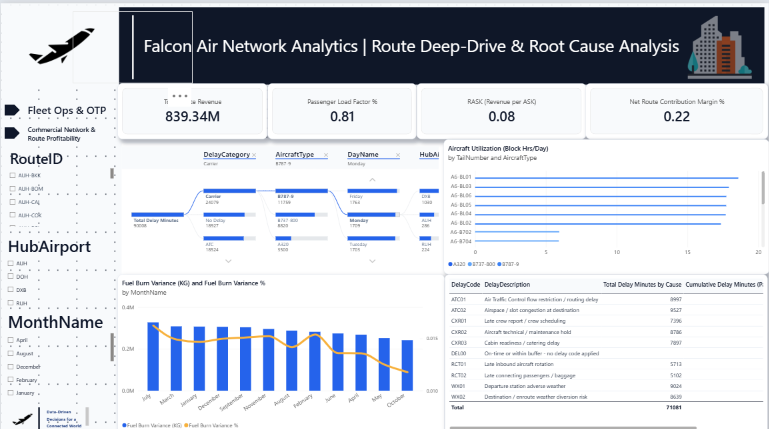

The page's visual inventory and layout, read from the dashboard file:
{"tool":"powerbi","page":{"name":"Route Deep-Dive & Root Cause Analysis.","canvas":[1920,1080],"ordinal":2},"visuals":[{"type":"shape","box":[0,189.4,306.6,892],"z":0},{"type":"image","box":[0,1000.5,109.3,80.1],"z":1000},{"type":"shape","box":[292.7,340.5,1626.7,738.7],"z":2000},{"type":"shape","box":[0,1000.5,191.8,80.1],"z":3000},{"type":"shape","box":[0,0,1919.3,213],"z":4000},{"type":"cardVisual","fields":{"Data":["Fact_RouteFinancials.Total Route Revenue"]},"box":[292.7,201.1,374.3,139.4],"z":5000},{"type":"cardVisual","fields":{"Data":["Fact_RouteFinancials.Passenger Load Factor %"]},"box":[667,201.1,372.3,139.4],"z":6000},{"type":"cardVisual","fields":{"Data":["Fact_RouteFinancials.RASK (Revenue per ASK)"]},"box":[1039.3,201.1,424.1,139.4],"z":7000},{"type":"cardVisual","fields":{"Data":["Fact_RouteFinancials.Net Route Contribution Margin %"]},"box":[1463.4,201.1,455.9,139.4],"z":8000},{"type":"clusteredBarChart","fields":{"Category":["Dim_Aircraft.TailNumber"],"Y":["Fact_Flights.Aircraft Utilization (Block Hrs/Day)"],"Series":["Dim_Aircraft.AircraftType"]},"box":[1106.7,339.1,813.9,337.4],"z":9000},{"type":"lineStackedColumnComboChart","fields":{"Y":["Fact_Flights.Fuel Burn Variance (KG)"],"Y2":["Fact_Flights.Fuel Burn Variance %"],"Category":["Dim_Date.MonthName"]},"box":[292.5,677.5,817.5,402.5],"z":10000},{"type":"tableEx","fields":{"Values":["Dim_DelayCodes.DelayCode","Dim_DelayCodes.DelayDescription","Fact_Flights.Total Delay Minutes by Cause","Fact_Flights.Cumulative Delay Minutes (Pareto)","Fact_Flights.Is Top 80% Delay Cause"]},"box":[1110,677.5,807.5,400],"z":12000},{"type":"slicer","fields":{"Values":["Dim_Route.HubAirport"]},"box":[0,567.5,292.5,217.5],"z":13000},{"type":"slicer","fields":{"Values":["Dim_Date.MonthName"]},"box":[0,757.5,292.5,245],"z":14000},{"type":"image","box":[0,0,306,213.7],"z":15000},{"type":"shape","box":[179.7,19.4,301.1,179.7],"z":16000},{"type":"textbox","box":[347.3,65.6,1527.4,167.6],"z":17000},{"type":"actionButton","title":"Fleet Ops & OTP","box":[58.3,238,225.8,58.3],"z":18000},{"type":"actionButton","title":"Commercial Network & Route Profitability","box":[58.3,295,225.8,58.3],"z":19000},{"type":"shape","box":[0,242.8,58.3,48.6],"z":20000},{"type":"shape","box":[0,299.9,58.3,48.6],"z":21000},{"type":"image","box":[1692.5,20,210,180],"z":22000},{"type":"textbox","box":[105,1000,125,70],"z":23000},{"type":"slicer","fields":{"Values":["Dim_Route.RouteID"]},"box":[5,352.5,287.5,215],"z":24000},{"type":"decompositionTreeVisual","fields":{"Analyze":["Fact_Flights.Total Delay Minutes"],"ExplainBy":["Dim_DelayCodes.DelayCategory","Dim_Aircraft.AircraftType","Dim_Date.DayName","Dim_Route.HubAirport"]},"box":[292.5,347.5,812.5,330],"z":25000}]}

Visuals, with their boxes in screenshot pixels (x1, y1, x2, y2), scaled from the page's 1920x1080 canvas onto the 769x429 screenshot:
shape: BBox(0, 75, 123, 428)
image: BBox(0, 397, 44, 428)
shape: BBox(117, 135, 768, 428)
shape: BBox(0, 397, 77, 428)
shape: BBox(0, 0, 768, 85)
cardVisual - Fact_RouteFinancials.Total Route Revenue: BBox(117, 80, 267, 135)
cardVisual - Fact_RouteFinancials.Passenger Load Factor %: BBox(267, 80, 416, 135)
cardVisual - Fact_RouteFinancials.RASK (Revenue per ASK): BBox(416, 80, 586, 135)
cardVisual - Fact_RouteFinancials.Net Route Contribution Margin %: BBox(586, 80, 768, 135)
clusteredBarChart - Dim_Aircraft.TailNumber x Fact_Flights.Aircraft Utilization (Block Hrs/Day): BBox(443, 135, 768, 269)
lineStackedColumnComboChart - Fact_Flights.Fuel Burn Variance (KG) x Fact_Flights.Fuel Burn Variance %: BBox(117, 269, 445, 428)
tableEx - Dim_DelayCodes.DelayCode x Dim_DelayCodes.DelayDescription: BBox(445, 269, 768, 428)
slicer - Dim_Route.HubAirport: BBox(0, 225, 117, 312)
slicer - Dim_Date.MonthName: BBox(0, 301, 117, 398)
image: BBox(0, 0, 123, 85)
shape: BBox(72, 8, 193, 79)
textbox: BBox(139, 26, 751, 93)
"Fleet Ops & OTP" actionButton: BBox(23, 95, 114, 118)
"Commercial Network & Route Profitability" actionButton: BBox(23, 117, 114, 140)
shape: BBox(0, 96, 23, 116)
shape: BBox(0, 119, 23, 138)
image: BBox(678, 8, 762, 79)
textbox: BBox(42, 397, 92, 425)
slicer - Dim_Route.RouteID: BBox(2, 140, 117, 225)
decompositionTreeVisual - Fact_Flights.Total Delay Minutes x Dim_DelayCodes.DelayCategory: BBox(117, 138, 443, 269)
